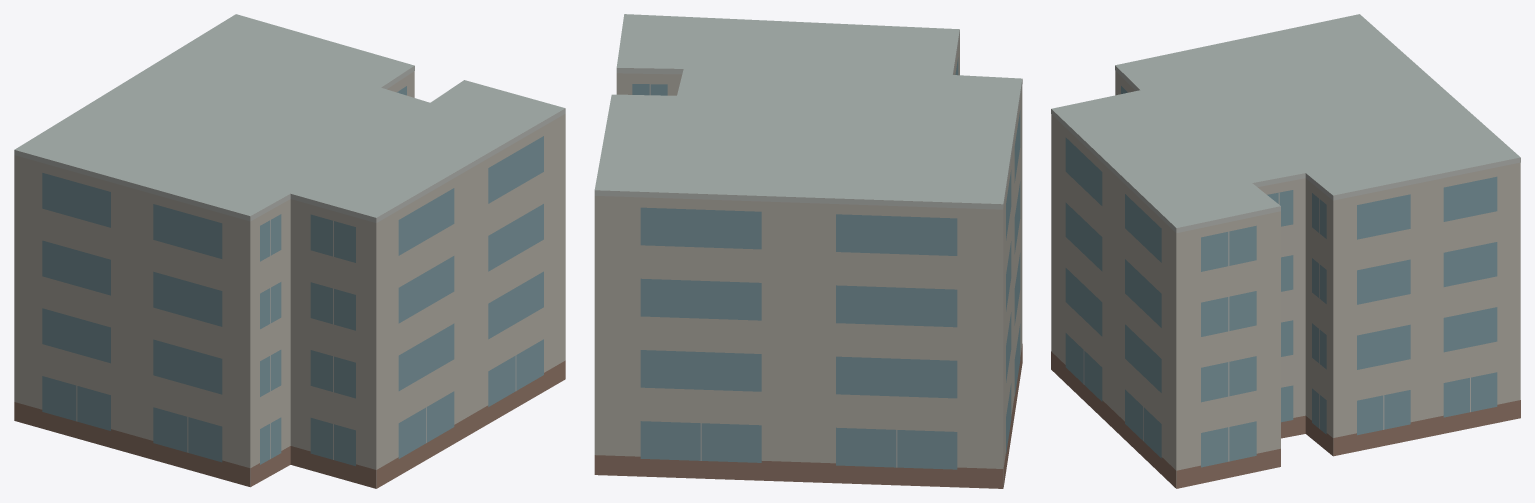
The model's file is survey-upis-32745150.glb.
3 views of the same model, side by side, from view 1: azimuth 30°, elevation 25°; view 2: azimuth 150°, elevation 25°; view 3: azimuth 270°, elevation 25° (orthographic). The views are drawn at different scales.
Parts seen in each view (by area): view 1: survey-upis-32745150.tmp; view 2: survey-upis-32745150.tmp; view 3: survey-upis-32745150.tmp.
Part boxes in pixels (left/top/right/bottom): survey-upis-32745150.tmp: left=14, top=14, right=565, bottom=488; survey-upis-32745150.tmp: left=594, top=14, right=1022, bottom=488; survey-upis-32745150.tmp: left=1051, top=14, right=1520, bottom=488.
Bounding box in the file's own units: 22.07 × 12.52 × 20.45.
